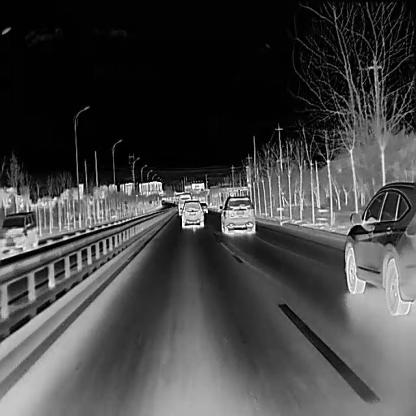bus: (177, 191, 190, 214)
car: (342, 179, 416, 315), (0, 210, 38, 256), (218, 193, 255, 234), (180, 199, 204, 228), (198, 201, 207, 213)
